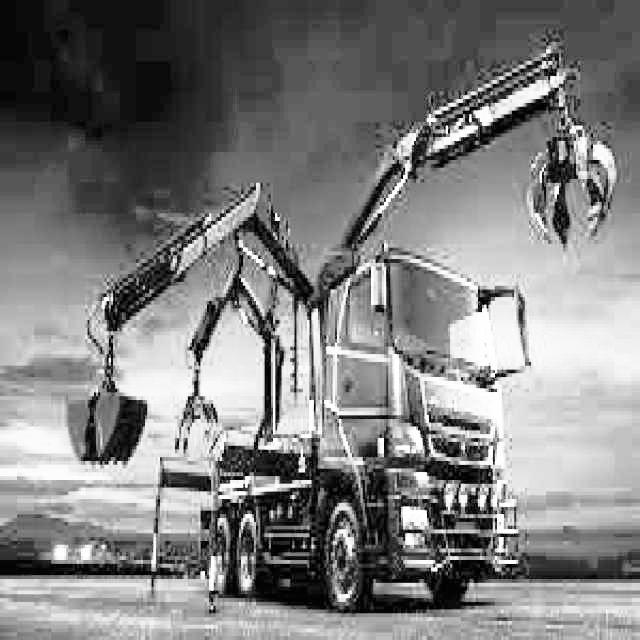Truck: (64, 35, 617, 614)
